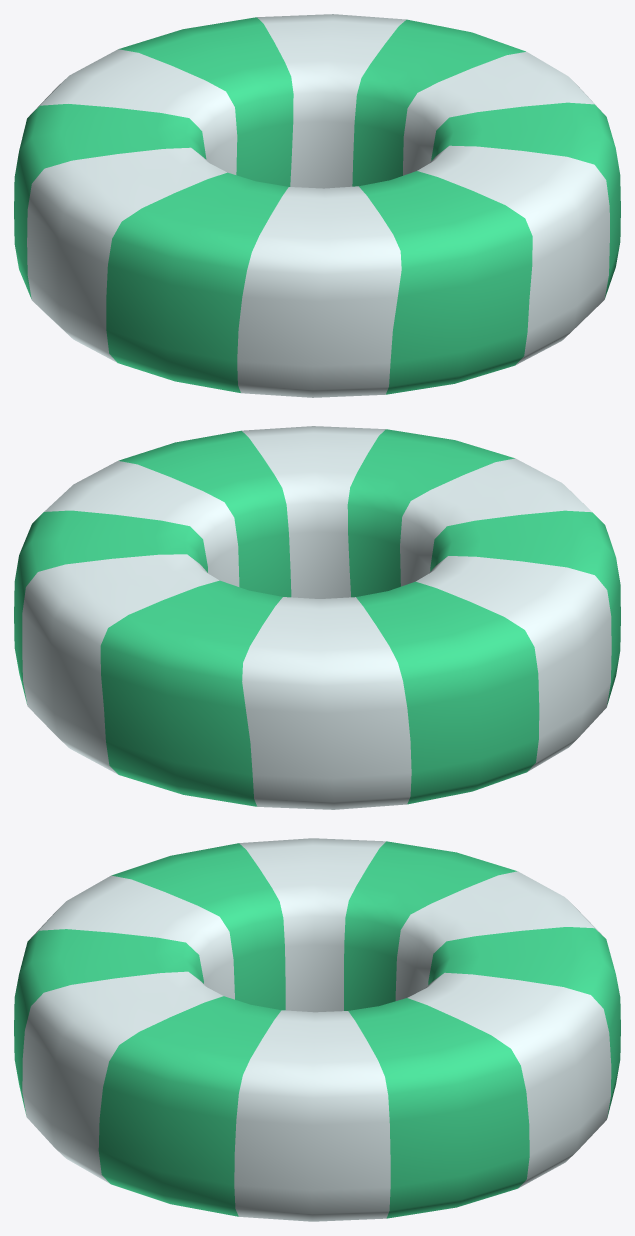
File: Mint_B_02.fbx
The picture shows the model from 3 angles, top to bottom: view 1: azimuth 30°, elevation 25°; view 2: azimuth 150°, elevation 25°; view 3: azimuth 270°, elevation 25°; orthographic projection.
Parts seen in each view (by area): view 1: Mint_B_02_LOD0; view 2: Mint_B_02_LOD0; view 3: Mint_B_02_LOD0.
Boxes of the visible parts, x1,y1,x2,y2 form: Mint_B_02_LOD0: (14,14,620,397); Mint_B_02_LOD0: (14,426,620,809); Mint_B_02_LOD0: (14,838,620,1221).
Size of what is drawn, in the model's own units: 326 by 91.42 by 326.
